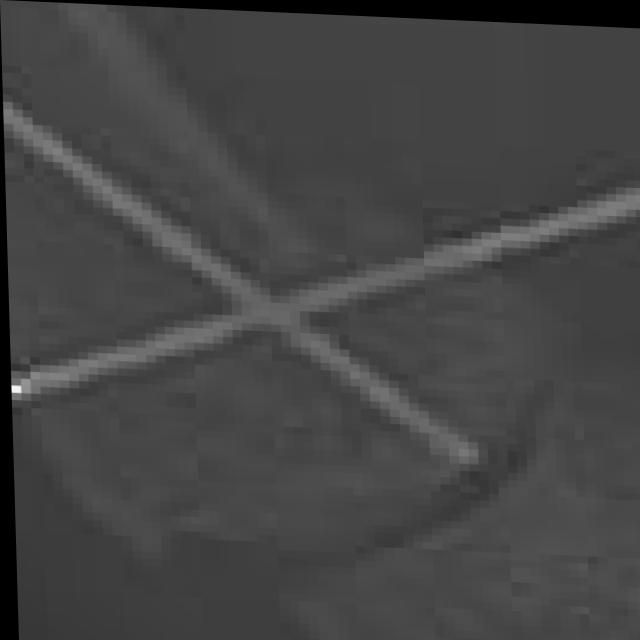fracture: (20, 18, 640, 640)
